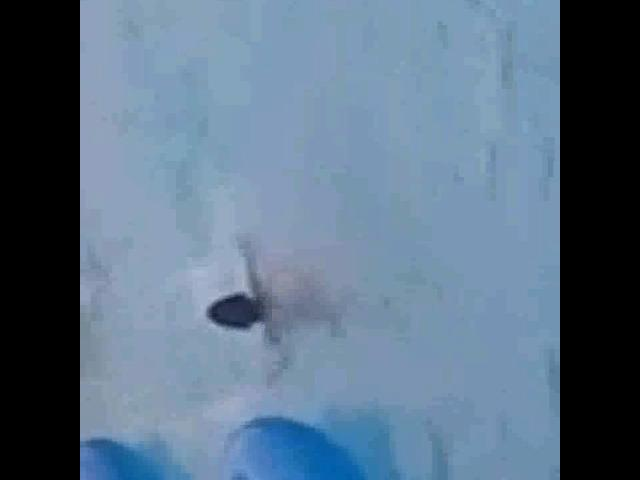drowning: (176, 207, 312, 391)
